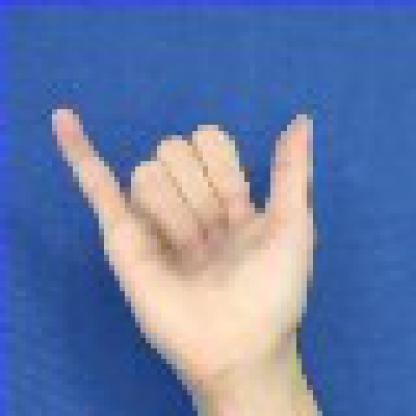six: (34, 84, 372, 412)
